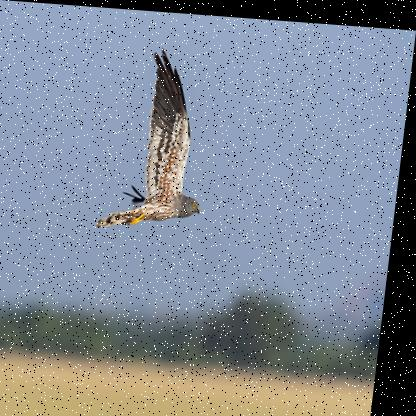Burung: (101, 40, 222, 232)
